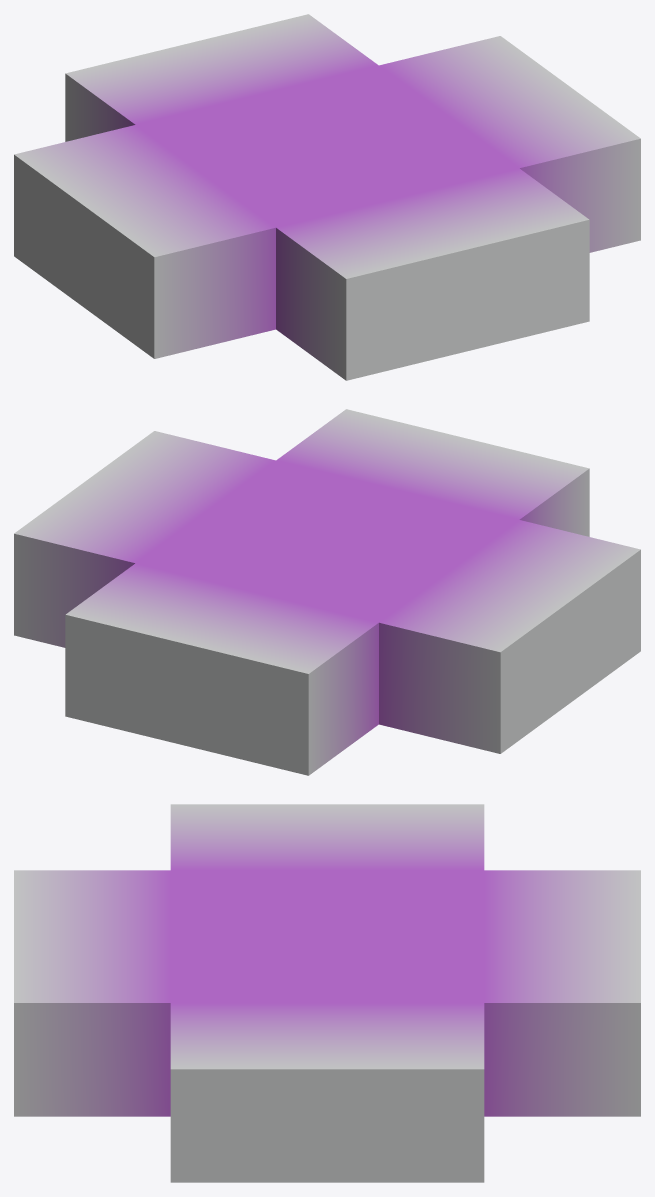
File: zero-to-cad-15c7f982-b330-9b74-a713-e6ab9fe7a746.glb
The picture shows the model from 3 angles, top to bottom: view 1: azimuth 30°, elevation 25°; view 2: azimuth 150°, elevation 25°; view 3: azimuth 270°, elevation 25°; orthographic projection. The views are drawn at different scales.
Visible parts, largest first — view 1: Cross; view 2: Cross; view 3: Cross.
Part boxes in pixels (x1,y1,x2,y2): Cross: (14, 14, 640, 380); Cross: (14, 409, 640, 775); Cross: (14, 804, 640, 1182).
Bounding box in the file's own units: 0.01 × 0.002 × 0.01.
